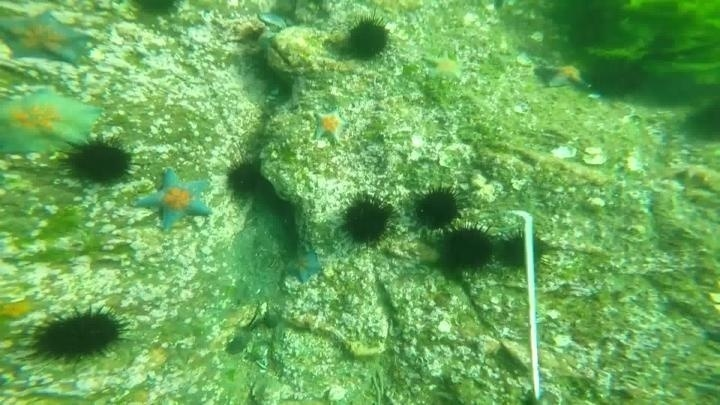echinus: (27, 305, 128, 365), (61, 135, 136, 187), (338, 193, 396, 248), (433, 226, 493, 278), (409, 184, 464, 232), (496, 230, 553, 274), (343, 15, 392, 63), (223, 156, 267, 201), (126, 1, 184, 23)
starfish: (1, 86, 104, 159), (1, 8, 93, 68), (135, 166, 214, 232), (534, 59, 590, 93), (309, 106, 351, 147), (281, 246, 325, 285), (422, 49, 467, 85), (1, 295, 46, 324), (688, 376, 720, 403), (257, 8, 295, 30)
